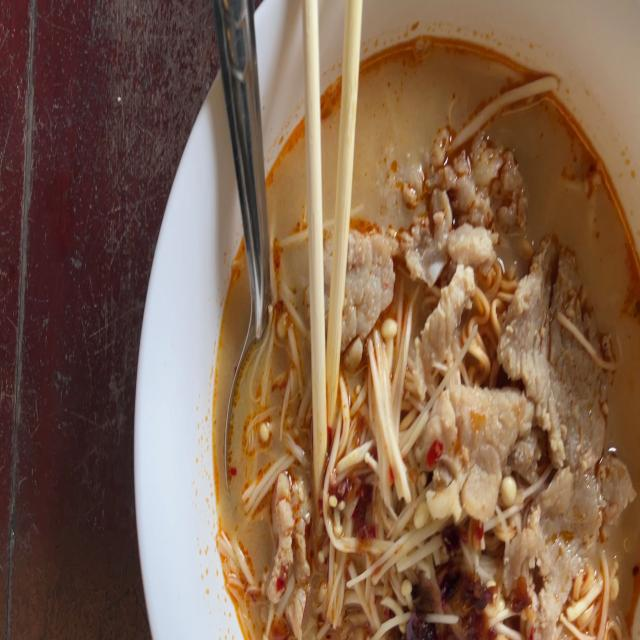noodle: (210, 32, 640, 640)
